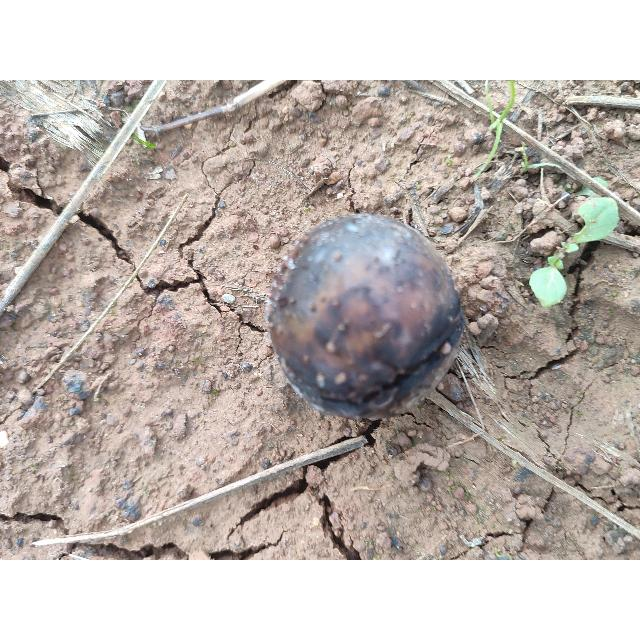damaged: (266, 214, 464, 419)
